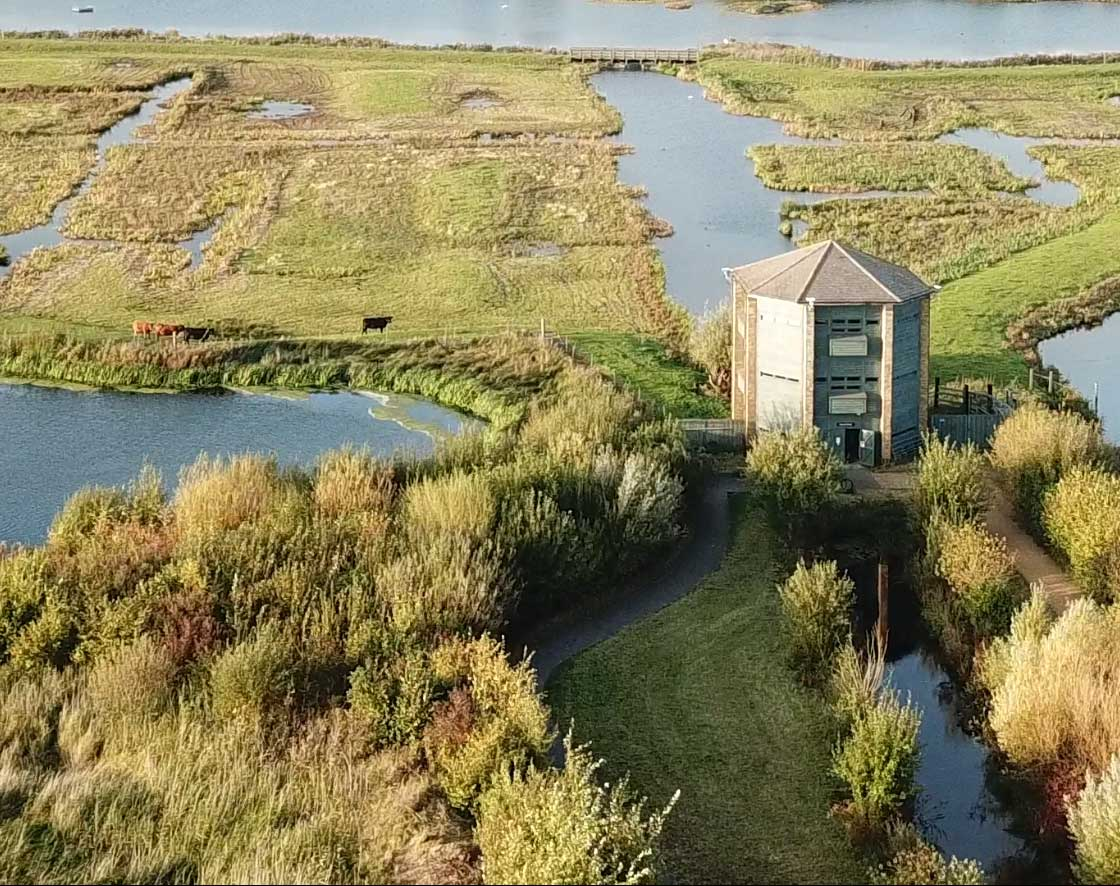building: (715, 238, 958, 483)
water: (1, 354, 501, 540), (659, 130, 745, 215)
